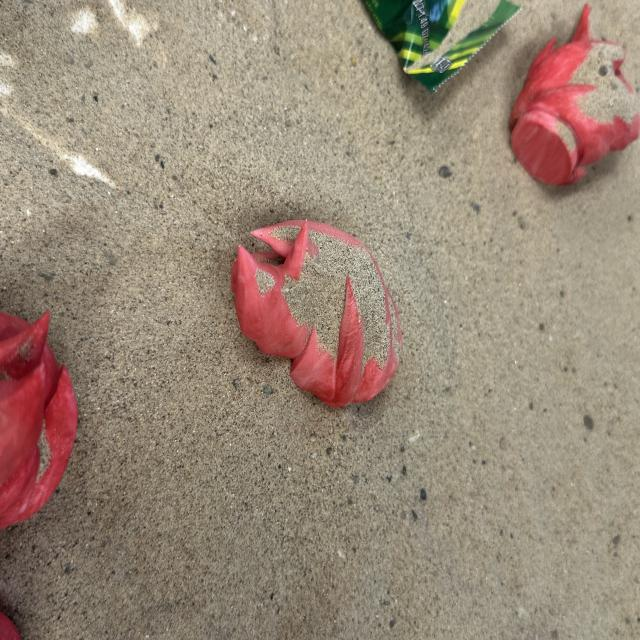fire: (230, 216, 403, 409), (507, 2, 639, 187), (0, 308, 79, 530)
